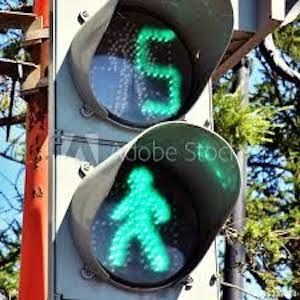green: (108, 162, 183, 274)
